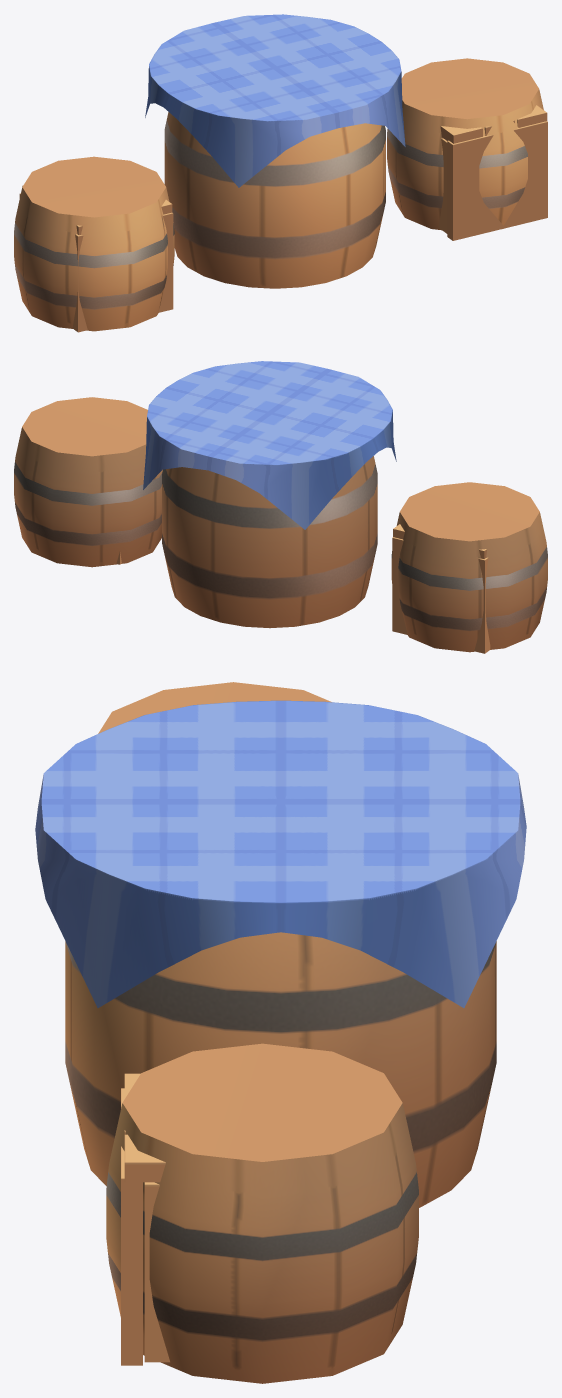
Rendered from table_2_3.fbx.
3 renders of one model, top to bottom at view 1: azimuth 30°, elevation 25°; view 2: azimuth 150°, elevation 25°; view 3: azimuth 270°, elevation 25°, orthographic. The views are drawn at different scales.
Parts seen in each view (by area): view 1: Plane.003, Cylinder.005, Cylinder.017, Cylinder.016, Cube.275, Cube.290; view 2: Plane.003, Cylinder.005, Cylinder.017, Cylinder.016, Cube.290; view 3: Plane.003, Cylinder.016, Cylinder.005, Cube.275, Cylinder.017.
Part boxes in pixels (<box>): Plane.003: <box>145,14,405,187</box>; Cylinder.005: <box>164,112,385,288</box>; Cylinder.017: <box>14,156,174,331</box>; Cylinder.016: <box>387,58,543,230</box>; Cube.275: <box>438,105,547,240</box>; Cube.290: <box>19,185,173,332</box>; Plane.003: <box>143,361,396,529</box>; Cylinder.005: <box>162,456,377,628</box>; Cylinder.017: <box>391,482,547,652</box>; Cylinder.016: <box>14,397,162,567</box>; Cube.290: <box>392,524,490,653</box>; Plane.003: <box>35,700,526,1007</box>; Cylinder.016: <box>106,1043,418,1383</box>; Cylinder.005: <box>65,932,496,1207</box>; Cube.275: <box>121,1073,169,1365</box>; Cylinder.017: <box>98,682,331,733</box>.
Bounding box in the file's own units: 5.93 × 1.95 × 2.5.
